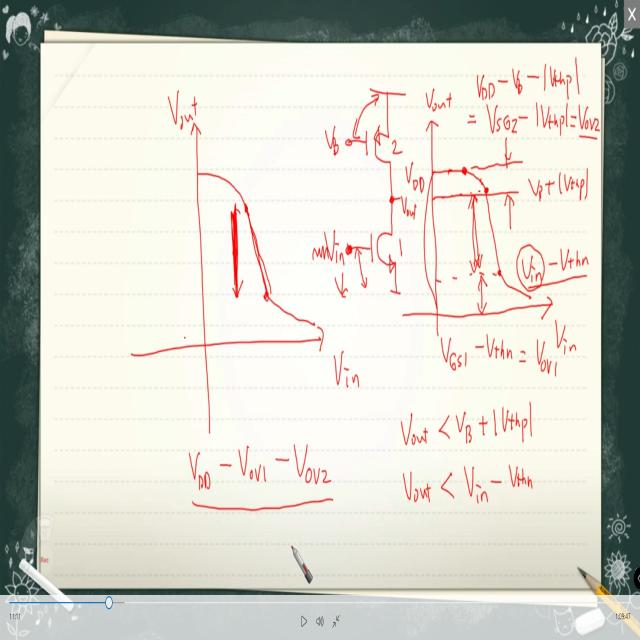panseo: (311, 54, 603, 516), (123, 70, 365, 531)
